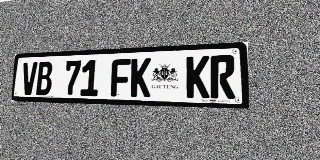1: (80, 60, 99, 96)
7: (63, 60, 81, 96)
B: (36, 61, 53, 95)
F: (111, 59, 131, 97)
K: (186, 56, 209, 98), (130, 58, 151, 97)
R: (210, 55, 235, 99)
V: (21, 62, 37, 95)
